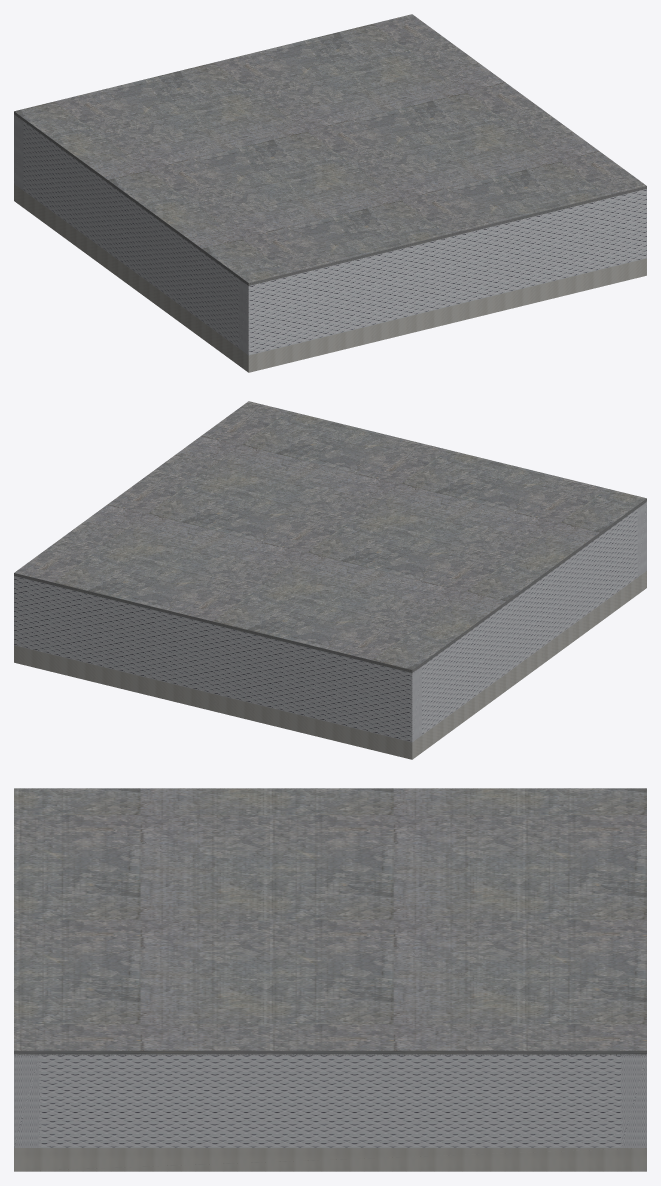
The model's file is Flat2Texture.fbx.
The picture shows the model from 3 angles, top to bottom: view 1: azimuth 30°, elevation 25°; view 2: azimuth 150°, elevation 25°; view 3: azimuth 270°, elevation 25°; orthographic projection. The views are drawn at different scales.
Visible parts, largest first — view 1: pCube1, ExternalWallDown, ExternalWallLeft, Floor, ExternalWallUp; view 2: pCube1, ExternalWallUp, ExternalWallLeft, Floor, ExternalWallDown; view 3: pCube1, ExternalWallRight, Floor, ExternalWallDown, ExternalWallUp.
Part boxes in pixels (<box>): pCube1: <box>14,14,646,285</box>; ExternalWallDown: <box>239,189,646,355</box>; ExternalWallLeft: <box>23,121,239,347</box>; Floor: <box>14,184,646,372</box>; ExternalWallUp: <box>14,114,23,190</box>; pCube1: <box>14,401,646,673</box>; ExternalWallUp: <box>14,576,421,742</box>; ExternalWallLeft: <box>422,509,637,734</box>; Floor: <box>14,571,646,759</box>; ExternalWallDown: <box>637,501,646,577</box>; pCube1: <box>14,788,646,1055</box>; ExternalWallRight: <box>39,1054,621,1147</box>; Floor: <box>14,1148,646,1171</box>; ExternalWallDown: <box>14,1054,39,1147</box>; ExternalWallUp: <box>621,1054,646,1147</box>.
Size of the model in its own units: 24 by 5.17 by 24.5.
Materials: 6 (6 with a texture image).
